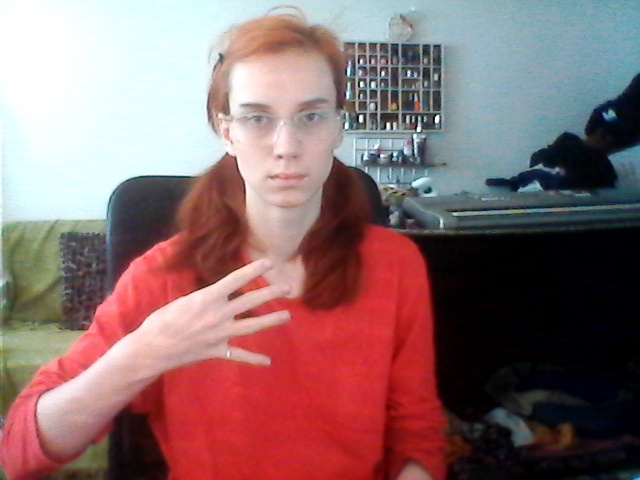styri: (158, 257, 307, 383)
